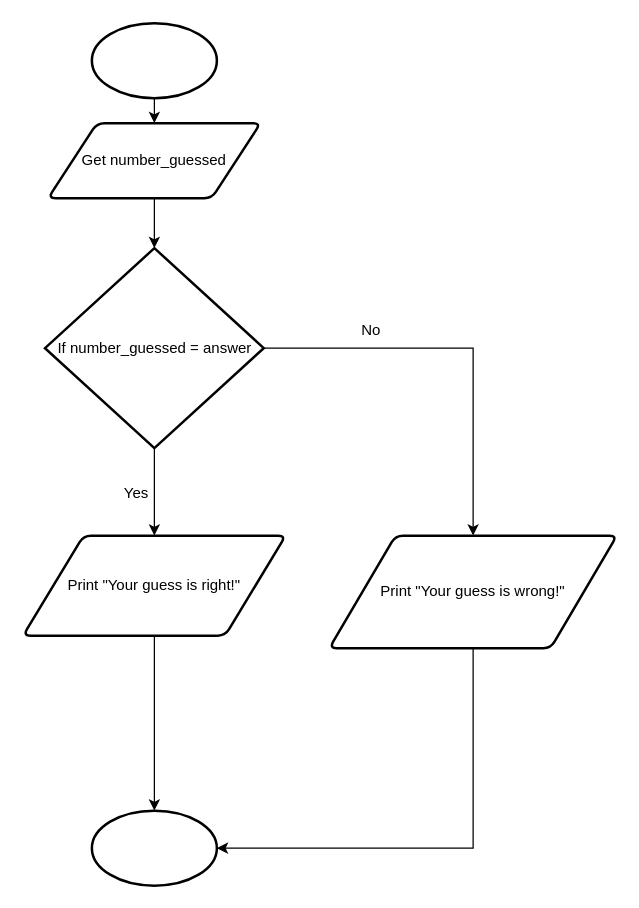
The diagram is 639 pixels wide and 908 high, and some of its shapes have lost their labels. The shapes that lost their labels are listed below. From the top down, each one's box as (x1, y1, x2, y2) in pixels, then its label:
(90, 21, 218, 99): Start
(90, 809, 218, 886): Stop
